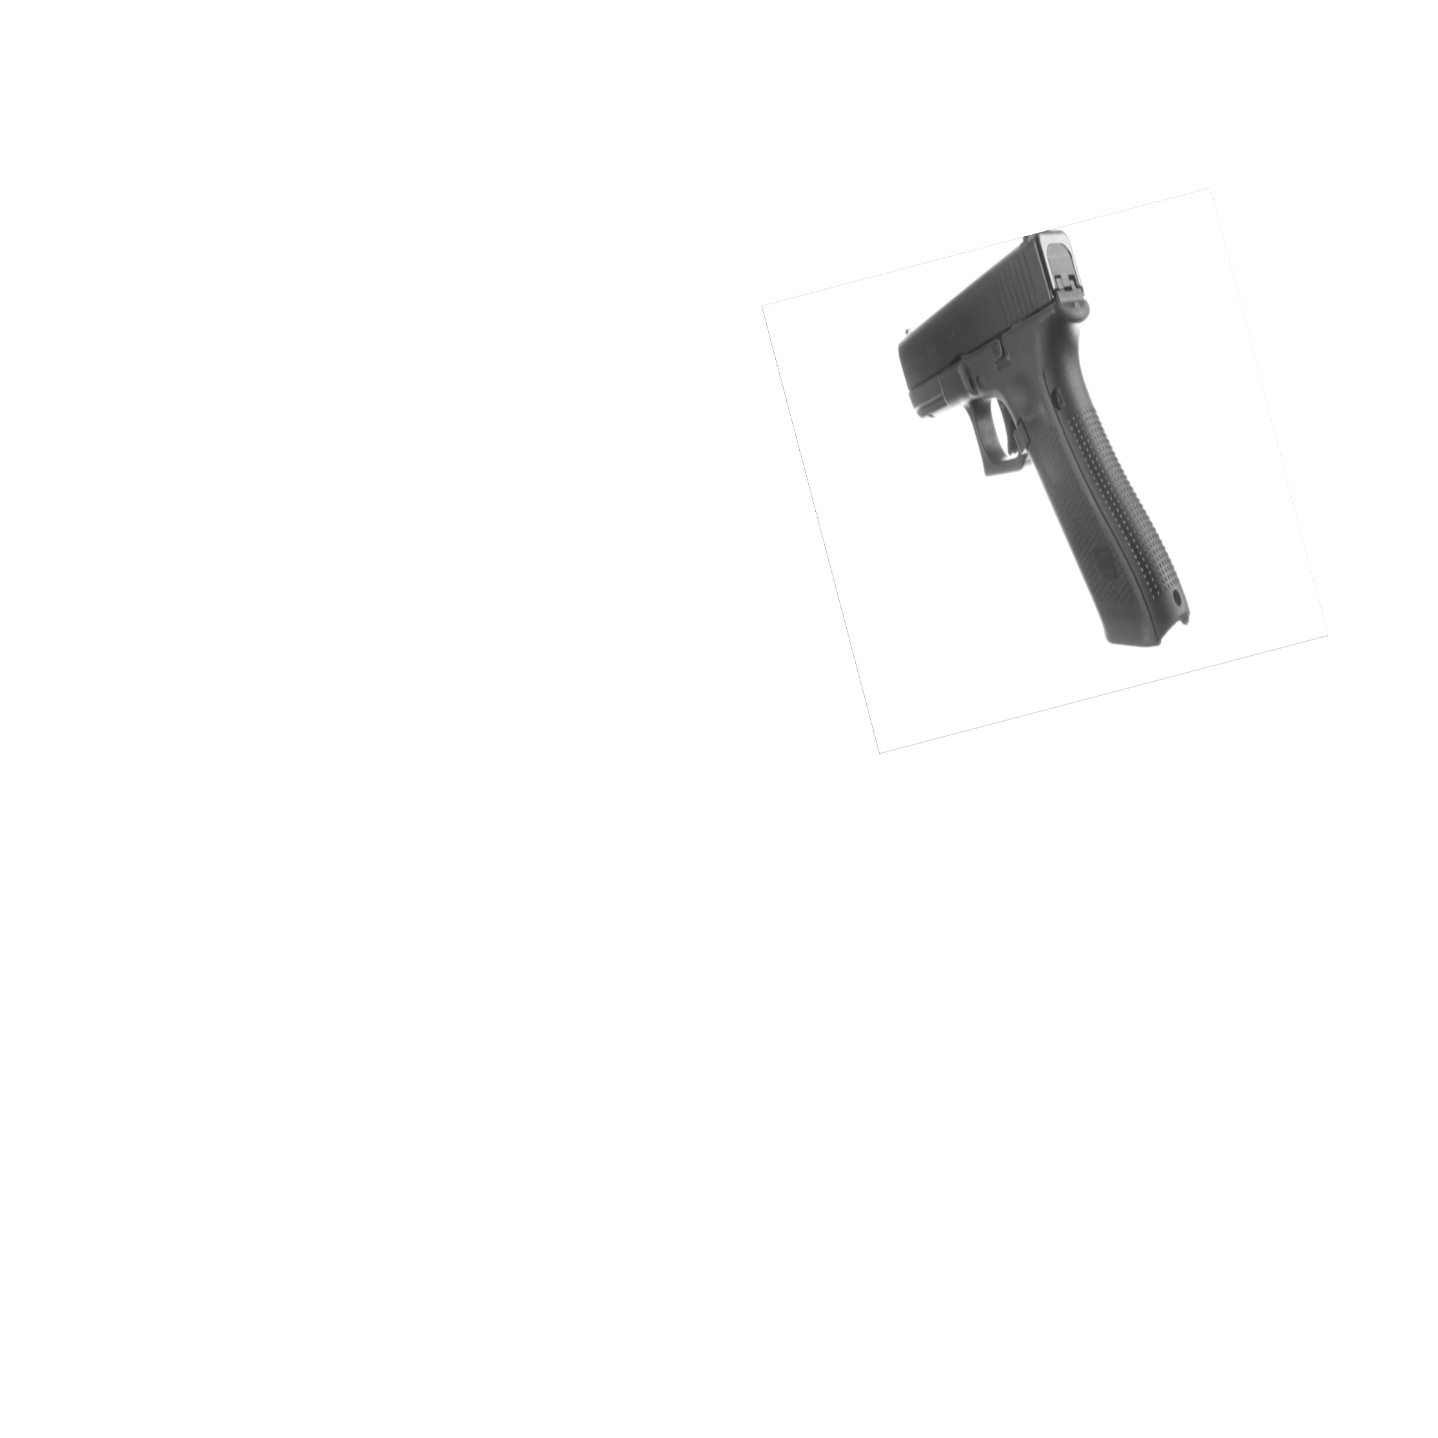gun: (898, 229, 1189, 649)
